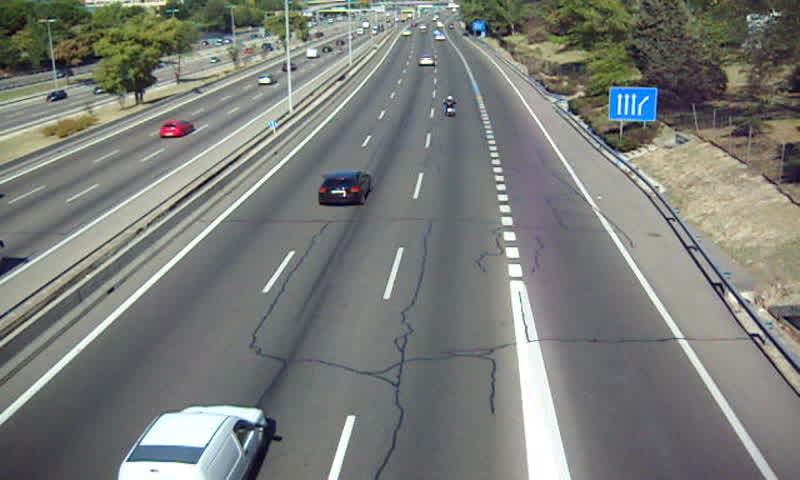car: (317, 172, 371, 204), (418, 56, 435, 68)
motorcycle: (443, 94, 458, 116)
van: (116, 406, 270, 480)
